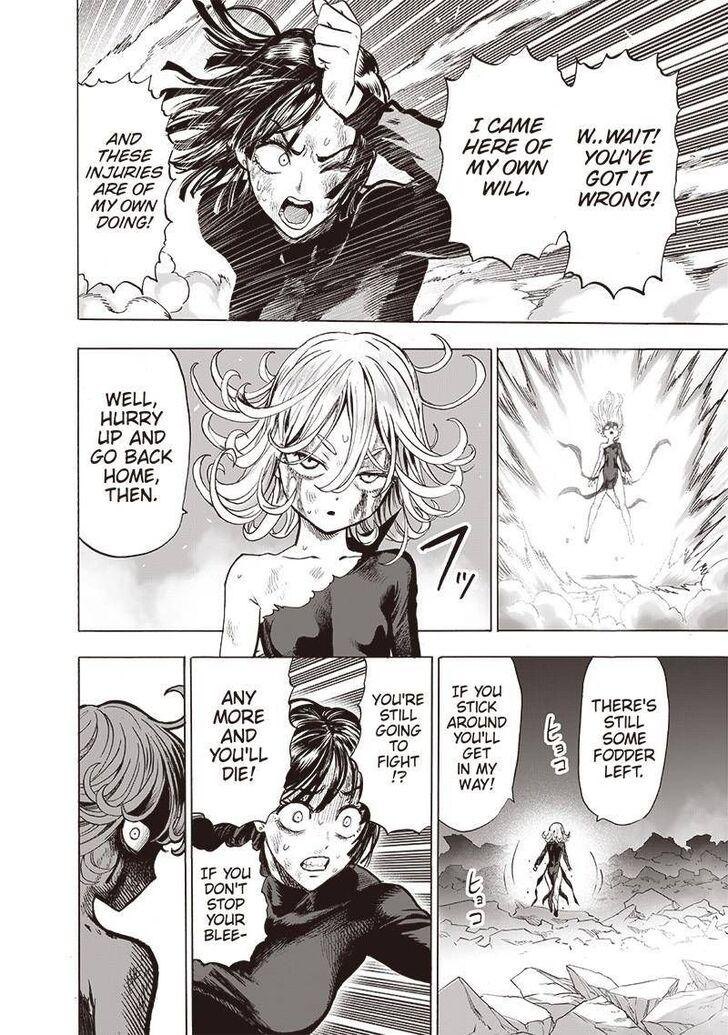Bubble: (432, 43, 566, 302), (569, 49, 683, 300), (77, 347, 193, 557), (76, 69, 179, 299), (190, 656, 300, 828), (577, 654, 671, 825), (348, 656, 434, 837), (439, 656, 524, 834), (191, 837, 270, 970)
